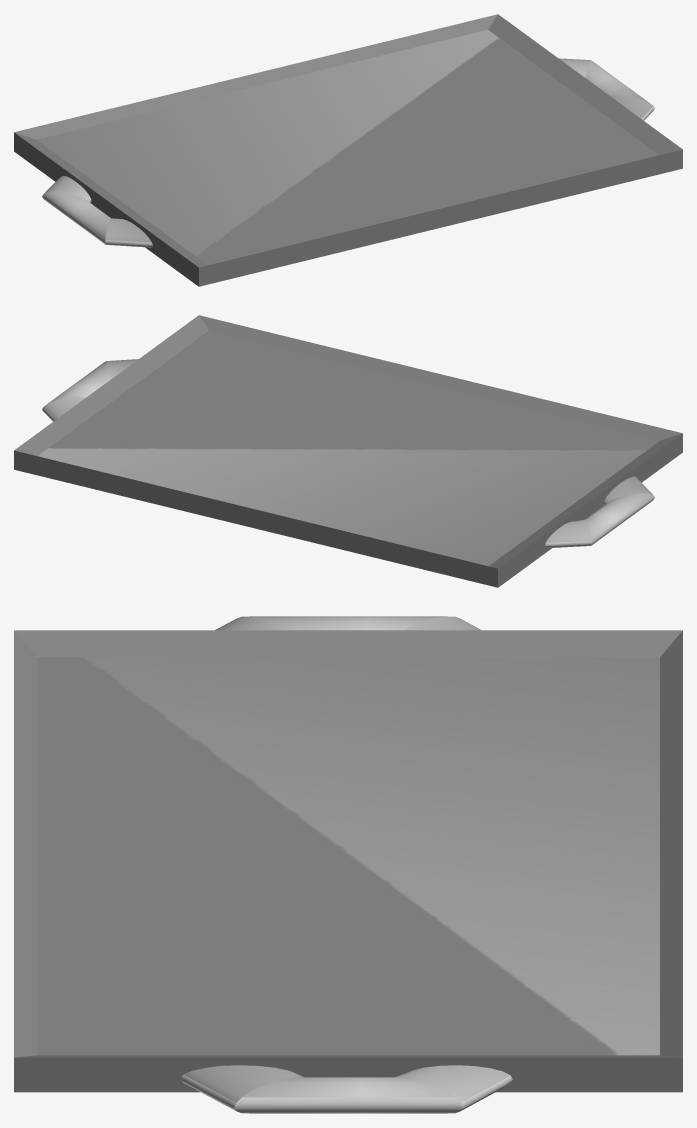
Rendered from bandejacontextura.fbx.
3 renders of one model, top to bottom at view 1: azimuth 30°, elevation 25°; view 2: azimuth 150°, elevation 25°; view 3: azimuth 270°, elevation 25°, orthographic. The views are drawn at different scales.
Visible parts, largest first — view 1: pCube2; view 2: pCube2; view 3: pCube2.
Part boxes in pixels (box(x1,y1,x2,y2)): pCube2: box(14, 14, 682, 286); pCube2: box(14, 315, 682, 587); pCube2: box(14, 616, 682, 1113).
Bounding box in the file's own units: 0.7527 × 0.0251 × 0.4385.
Materials: 1 (1 with a texture image).
